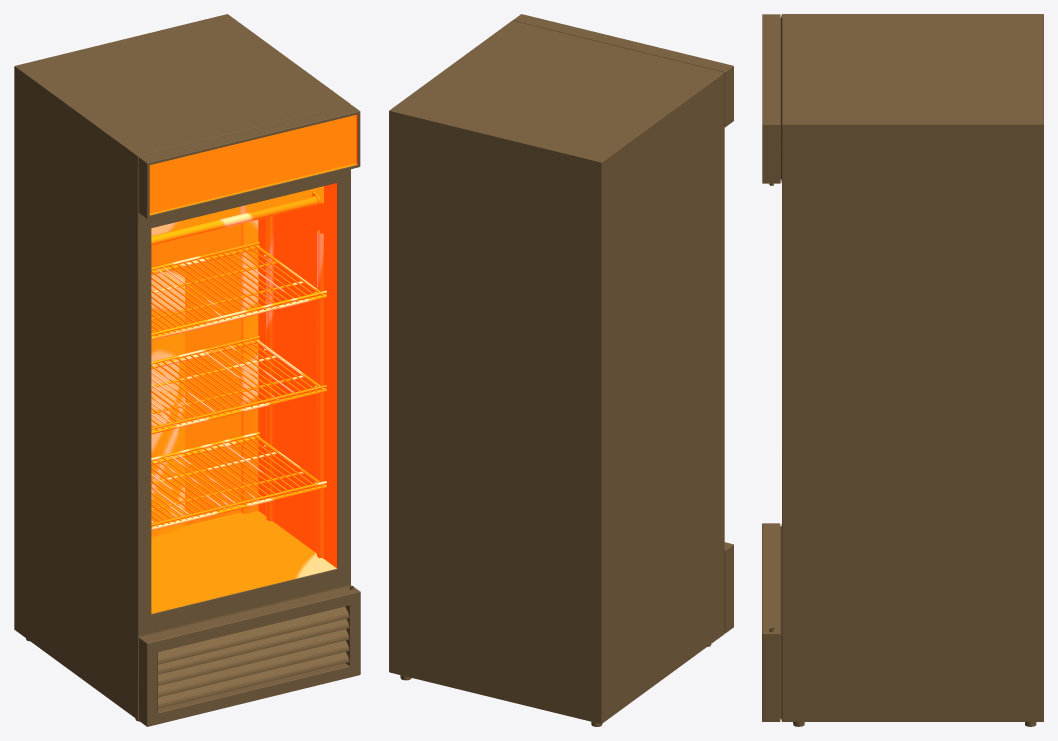
File: Open-Chiller-PhotoAdapted.fbx
3 views of the same model, side by side, from view 1: azimuth 30°, elevation 25°; view 2: azimuth 150°, elevation 25°; view 3: azimuth 270°, elevation 25° (orthographic). The views are drawn at different scales.
Visible parts, largest first — view 1: FridgeCase, FridgeInterior; view 2: FridgeCase; view 3: FridgeCase.
Part boxes in pixels (x1,y1,x2,y2): FridgeCase: (14,14,360,726); FridgeInterior: (149,114,357,613); FridgeCase: (389,14,733,726); FridgeCase: (762,14,1043,726).
Bounding box in the file's own units: 85.44 × 218 × 92.06.
